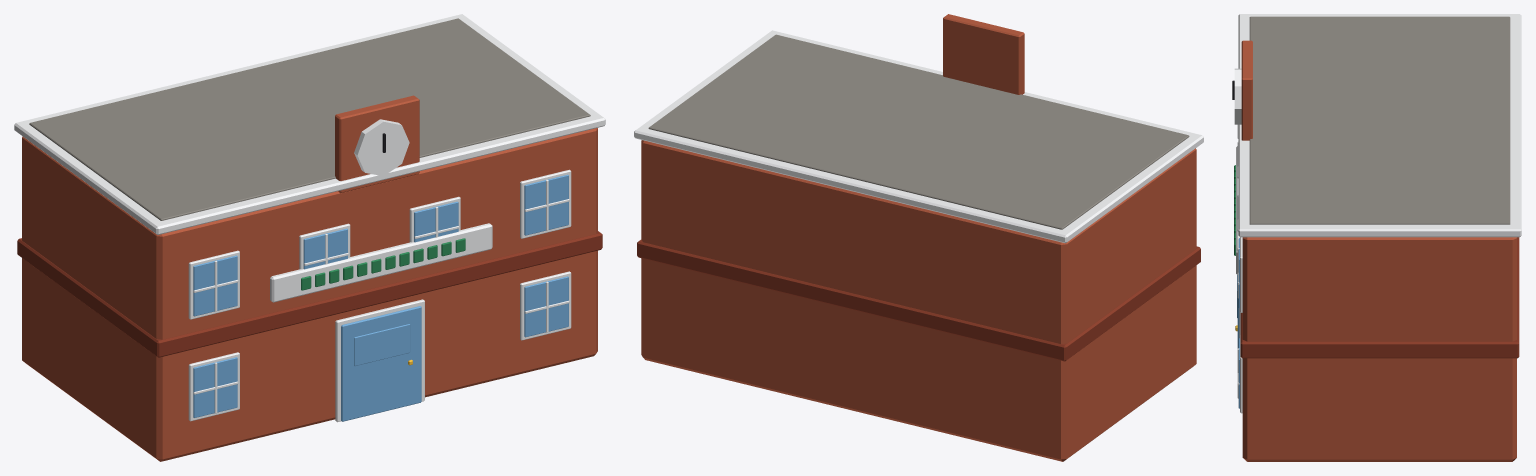
File: School.fbx
The picture shows the model from 3 angles, left to right: view 1: azimuth 30°, elevation 25°; view 2: azimuth 150°, elevation 25°; view 3: azimuth 270°, elevation 25°; orthographic projection. The views are drawn at different scales.
Parts seen in each view (by area): view 1: School; view 2: School; view 3: School.
Part boxes in pixels (x1,y1,x2,y2): School: [14, 14, 605, 461]; School: [634, 14, 1203, 461]; School: [1232, 14, 1521, 461].
Size of the model in its own units: 22.4 by 14.4 by 12.66.
1 material, 1 textured.
